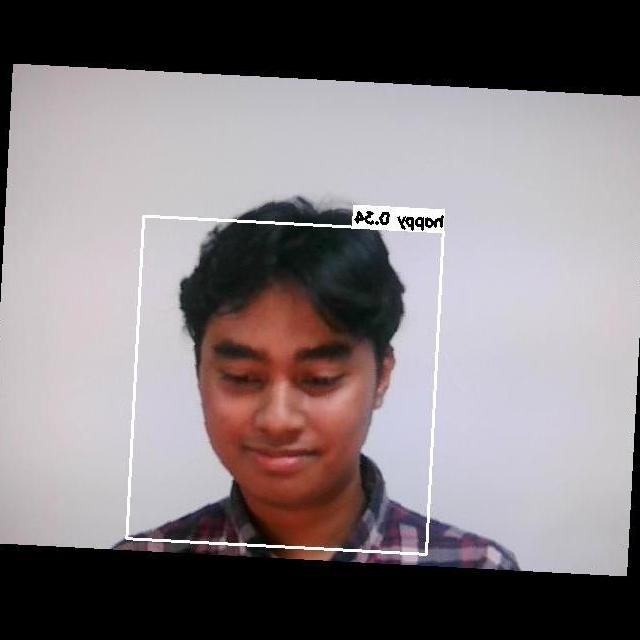Happy: (196, 320, 362, 481)
